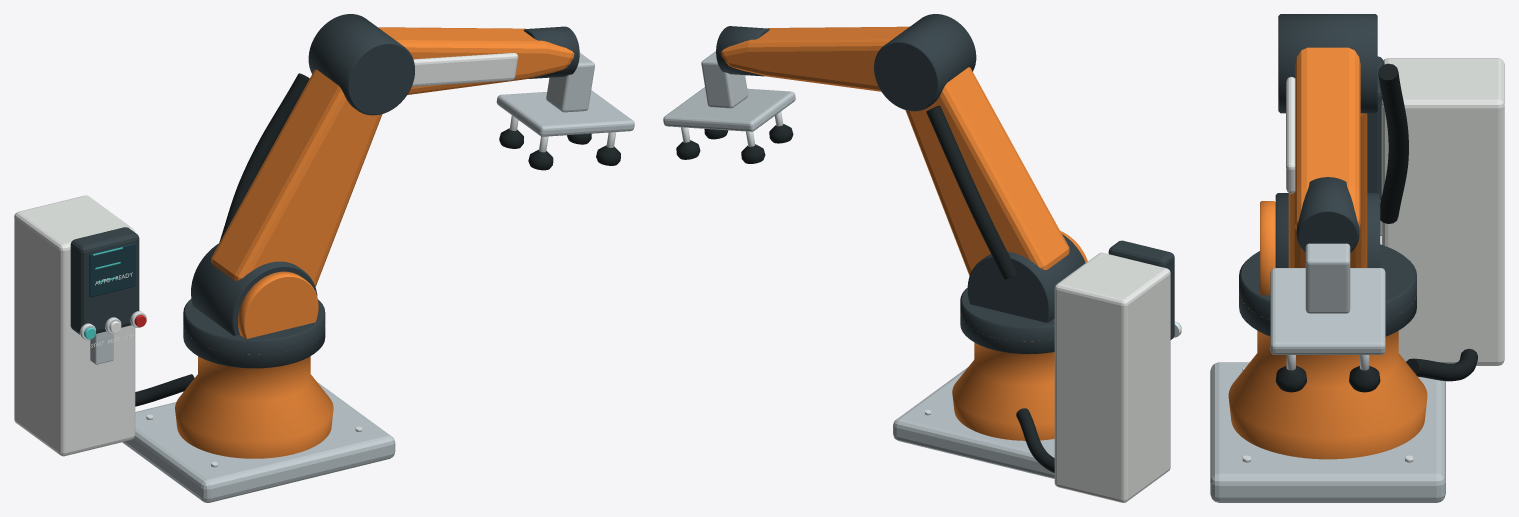
File: robot.glb
The picture shows the model from 3 angles, left to right: view 1: azimuth 30°, elevation 25°; view 2: azimuth 150°, elevation 25°; view 3: azimuth 270°, elevation 25°; orthographic projection. The views are drawn at different scales.
Parts seen in each view (by area): view 1: Robot controller, Lower cast arm, Robot pedestal, Robot mounting plate, Elbow gearbox, Upper cast arm, Slew bearing, Robot pendant controller, Shoulder cover, Vacuum gripper, Shoulder bearing, Service cover (+6 smaller); view 2: Robot controller, Lower cast arm, Upper cast arm, Robot pedestal, Elbow gearbox, Robot mounting plate, Shoulder bearing, Slew bearing, Vacuum gripper, Arm service harness, Tool flange, Robot pendant controller (+2 smaller); view 3: Robot controller, Robot pedestal, Robot mounting plate, Upper cast arm, Vacuum gripper, Elbow gearbox, Slew bearing, Wrist motor, Arm service harness, Tool flange, Lower cast arm, Shoulder bearing (+6 smaller).
Part boxes in pixels (box(x1,y1,x2,y2)): Robot controller: box(14, 195, 135, 456); Lower cast arm: box(211, 69, 382, 286); Robot pedestal: box(175, 325, 333, 458); Robot mounting plate: box(122, 382, 395, 502); Elbow gearbox: box(308, 14, 414, 115); Upper cast arm: box(378, 27, 574, 94); Slew bearing: box(183, 299, 325, 368); Robot pendant controller: box(70, 227, 139, 334); Shoulder cover: box(238, 271, 318, 338); Vacuum gripper: box(496, 90, 634, 136); Shoulder bearing: box(191, 243, 317, 335); Service cover: box(411, 53, 518, 86); Robot controller: box(1054, 252, 1170, 502); Lower cast arm: box(905, 67, 1069, 275); Upper cast arm: box(721, 26, 909, 91); Robot pedestal: box(952, 340, 1054, 440); Elbow gearbox: box(874, 14, 976, 111); Robot mounting plate: box(893, 367, 1054, 478); Shoulder bearing: box(967, 234, 1085, 322); Slew bearing: box(960, 288, 1054, 354); Vacuum gripper: box(663, 87, 795, 131); Arm service harness: box(926, 105, 1017, 279); Tool flange: box(701, 51, 748, 108); Robot pendant controller: box(1108, 240, 1174, 339); Robot controller: box(1381, 58, 1504, 365); Robot pedestal: box(1228, 293, 1427, 459); Robot mounting plate: box(1210, 362, 1445, 502); Upper cast arm: box(1295, 47, 1360, 230); Vacuum gripper: box(1270, 268, 1385, 354); Elbow gearbox: box(1278, 14, 1377, 113); Slew bearing: box(1239, 244, 1416, 336); Wrist motor: box(1296, 177, 1359, 252); Arm service harness: box(1378, 63, 1408, 223); Tool flange: box(1305, 243, 1350, 313); Lower cast arm: box(1288, 113, 1367, 267); Shoulder bearing: box(1275, 193, 1380, 267).
Size of the model in its own units: 2.94 by 2.08 by 1.13.
